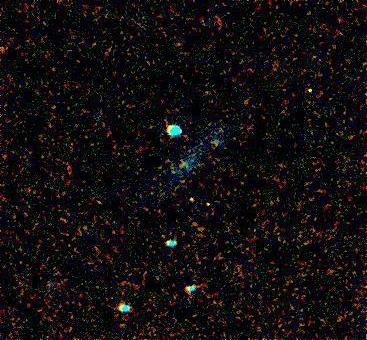star: (193, 188, 223, 218)
